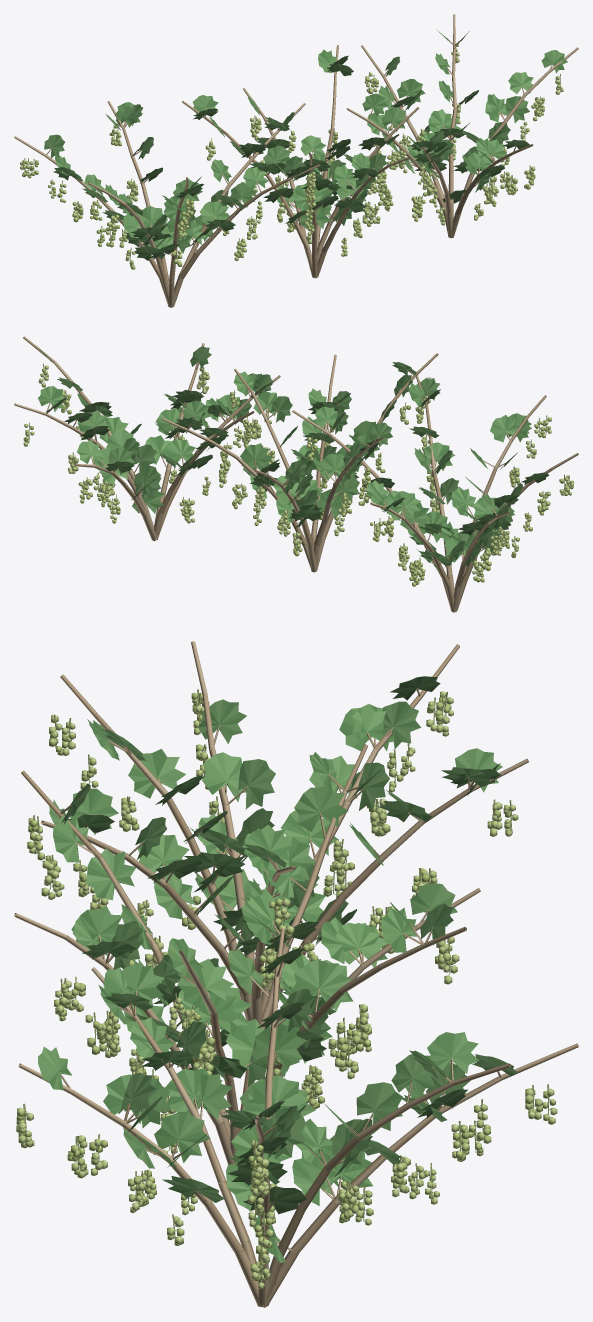
File: groseillier_fruits.glb
3 renders of one model, top to bottom at view 1: azimuth 30°, elevation 25°; view 2: azimuth 150°, elevation 25°; view 3: azimuth 270°, elevation 25°, orthographic. The views are drawn at different scales.
Parts seen in each view (by area): view 1: Groseillier_Feuilles, Groseillier_Tiges, Groseillier_Fruits; view 2: Groseillier_Feuilles, Groseillier_Tiges, Groseillier_Fruits; view 3: Groseillier_Feuilles, Groseillier_Tiges, Groseillier_Fruits.
Boxes of the visible parts, bbox=[...] form: Groseillier_Feuilles: bbox=[44, 30, 567, 260]; Groseillier_Tiges: bbox=[14, 14, 578, 307]; Groseillier_Fruits: bbox=[20, 44, 563, 269]; Groseillier_Feuilles: bbox=[36, 346, 549, 572]; Groseillier_Tiges: bbox=[14, 336, 578, 612]; Groseillier_Fruits: bbox=[23, 363, 573, 586]; Groseillier_Feuilles: bbox=[38, 676, 518, 1262]; Groseillier_Tiges: bbox=[14, 641, 578, 1307]; Groseillier_Fruits: bbox=[16, 689, 557, 1289].
Bounding box in the file's own units: 2.51 × 0.8455 × 1.25.
